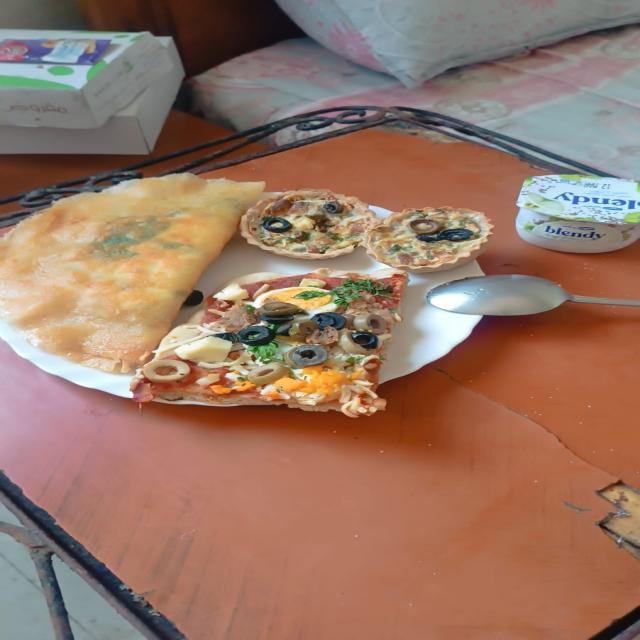brik: (0, 158, 281, 371)
